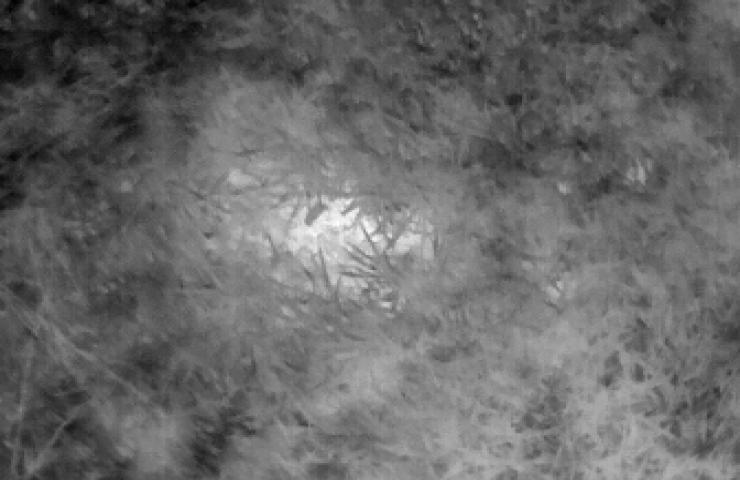landmines: (234, 173, 439, 313)
